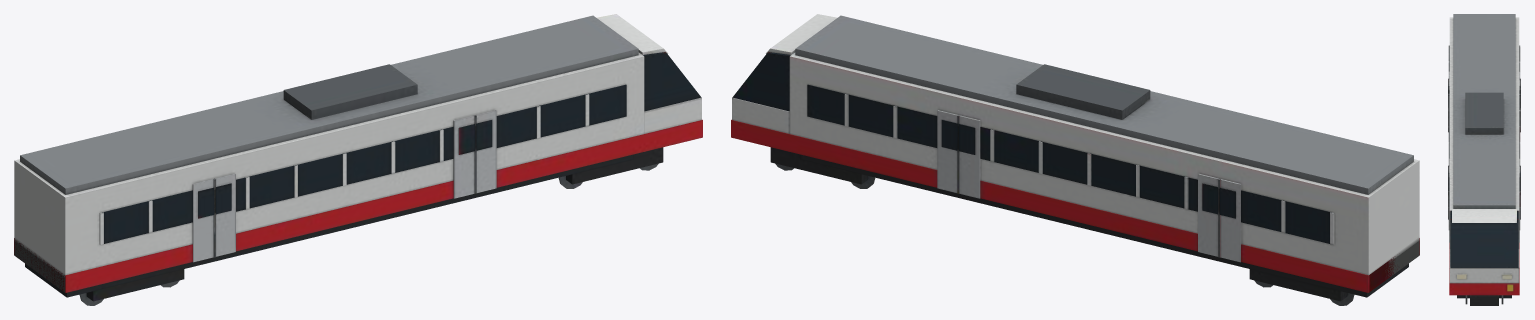
File: pociag_cab.glb
The picture shows the model from 3 angles, left to right: view 1: azimuth 30°, elevation 25°; view 2: azimuth 150°, elevation 25°; view 3: azimuth 270°, elevation 25°; orthographic projection. The views are drawn at different scales.
Parts seen in each view (by area): view 1: pociag_cab; view 2: pociag_cab; view 3: pociag_cab.
Boxes of the visible parts, left/top/right/bottom form: pociag_cab: left=14, top=14, right=702, bottom=305; pociag_cab: left=731, top=14, right=1419, bottom=305; pociag_cab: left=1448, top=14, right=1520, bottom=305.
Size of the model in its own units: 21.1 by 4.5 by 3.04.
1 material, 1 textured.
